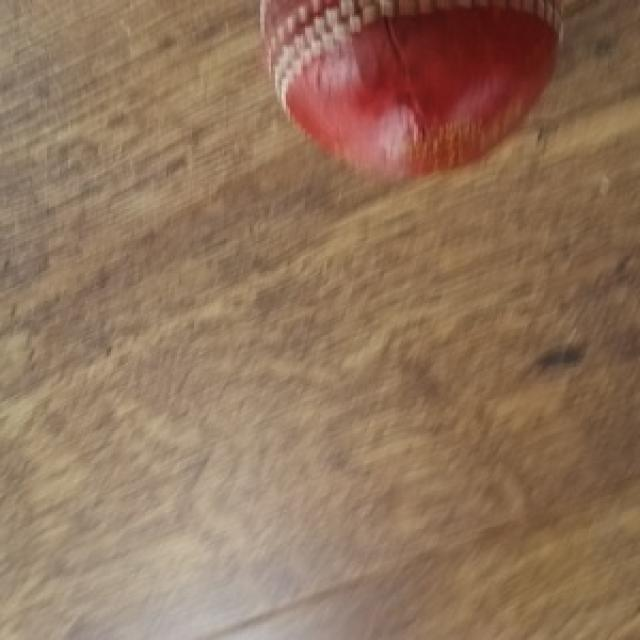ball: (258, 0, 561, 188)
